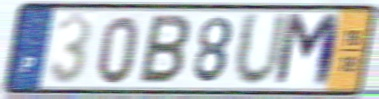0: (94, 11, 142, 87)
3: (47, 9, 94, 89)
8: (192, 15, 235, 85)
B: (136, 12, 192, 87)
M: (271, 11, 344, 90)
U: (231, 10, 292, 91)
